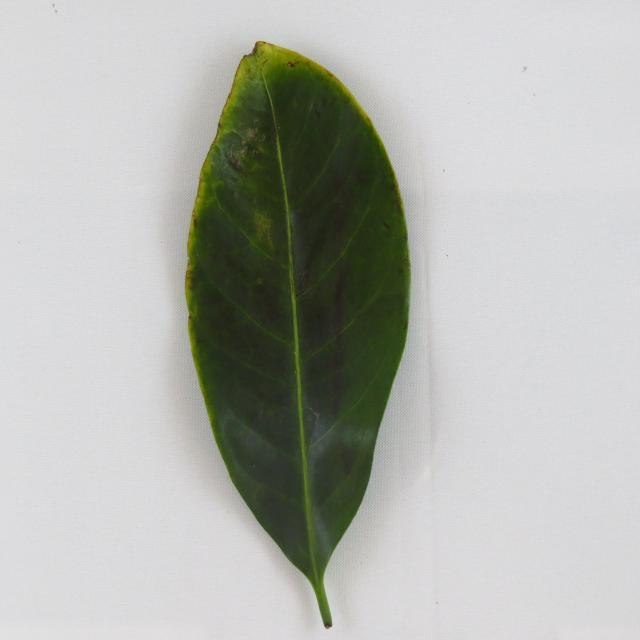DeficienciaNutricional-Boro: (186, 42, 410, 628)
